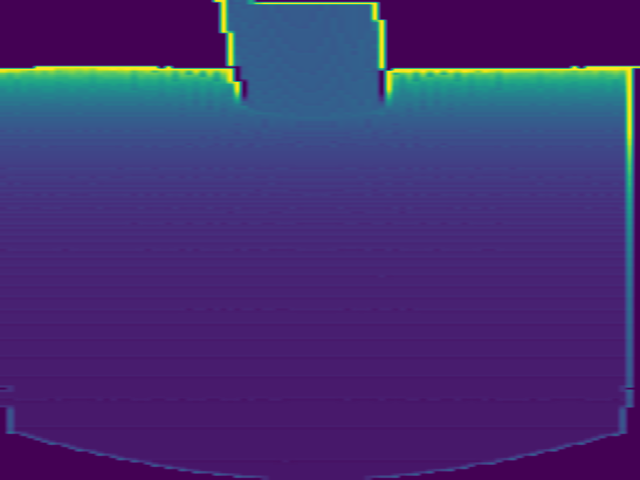cylinder: (216, 1, 389, 112)
